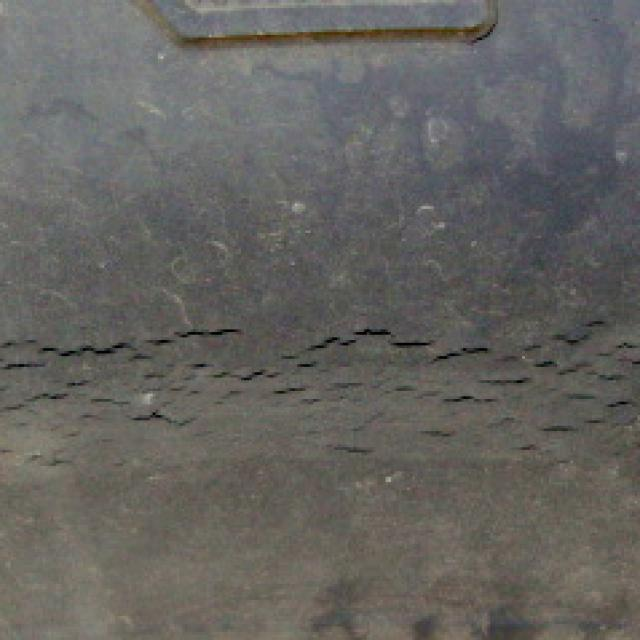Cracks: (0, 302, 640, 476)
